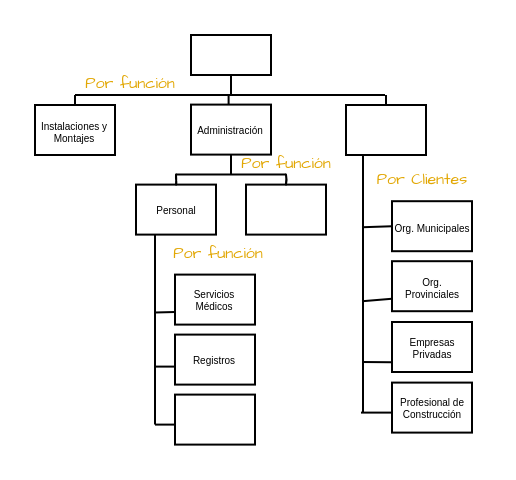
The diagram is 516 pixels wide and 480 high, and some of its shapes have lost their labels. The shapes that lost their labels are listed below. From the top down, each one's centre as x and y in pixels, then its label:
(x=230, y=54): Gerente Sucursal
(x=385, y=129): Comercialización
(x=285, y=209): Caja
(x=214, y=419): Capacitación
